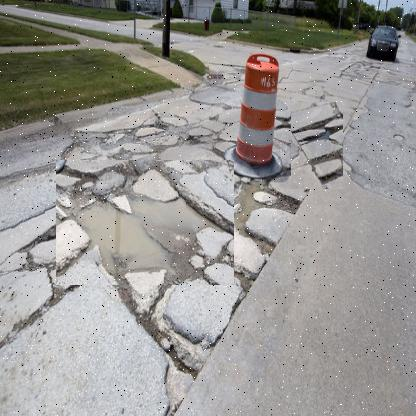crack: (291, 102, 344, 190)
pothole_water_m: (56, 160, 235, 286)
